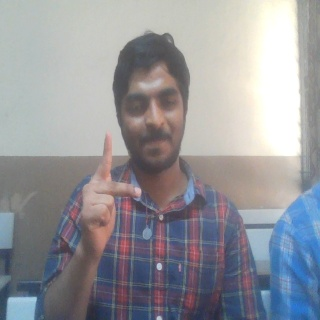Face: (113, 32, 190, 175)
Okay: (74, 126, 143, 253)
